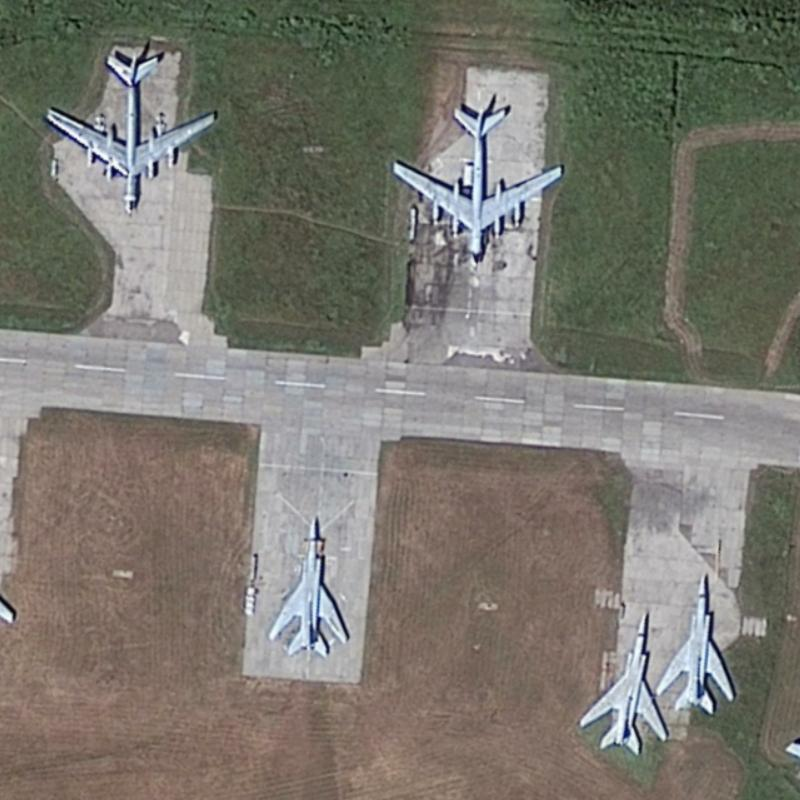A12: (575, 610, 670, 756), (651, 570, 736, 717), (265, 514, 350, 659)
A17: (41, 50, 215, 217), (389, 103, 564, 267)
